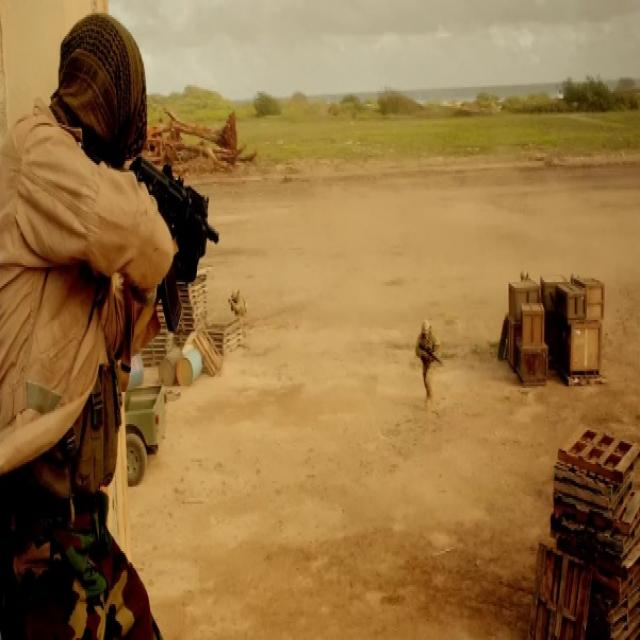rifle: (133, 150, 226, 332)
